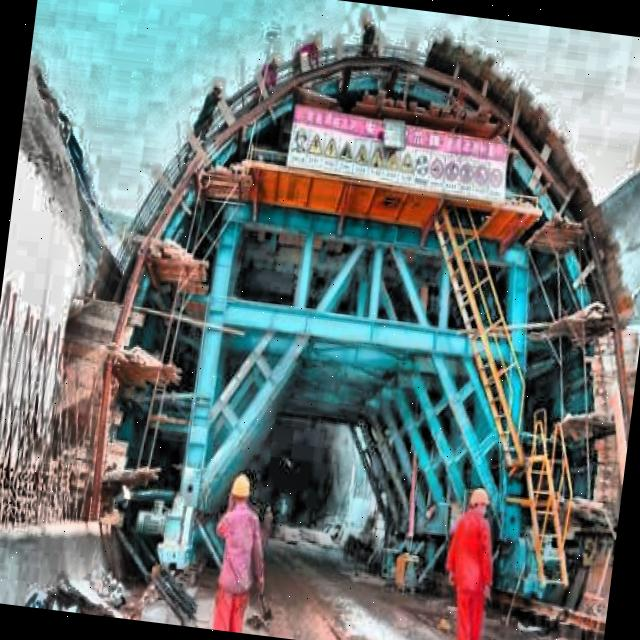helmet: (226, 467, 256, 518), (468, 479, 492, 518)
